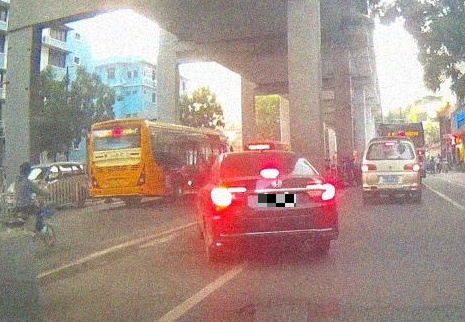L_light: (211, 187, 246, 207), (90, 167, 100, 189), (403, 163, 420, 172)
R_light: (306, 183, 335, 200), (136, 163, 146, 187)
T_light: (260, 168, 279, 179), (104, 145, 121, 150), (385, 142, 396, 146)
day-brake: (361, 136, 420, 204)
day-left: (209, 150, 339, 261)
day-no: (89, 118, 147, 205), (361, 164, 377, 172)
plate_1: (258, 194, 296, 207)
